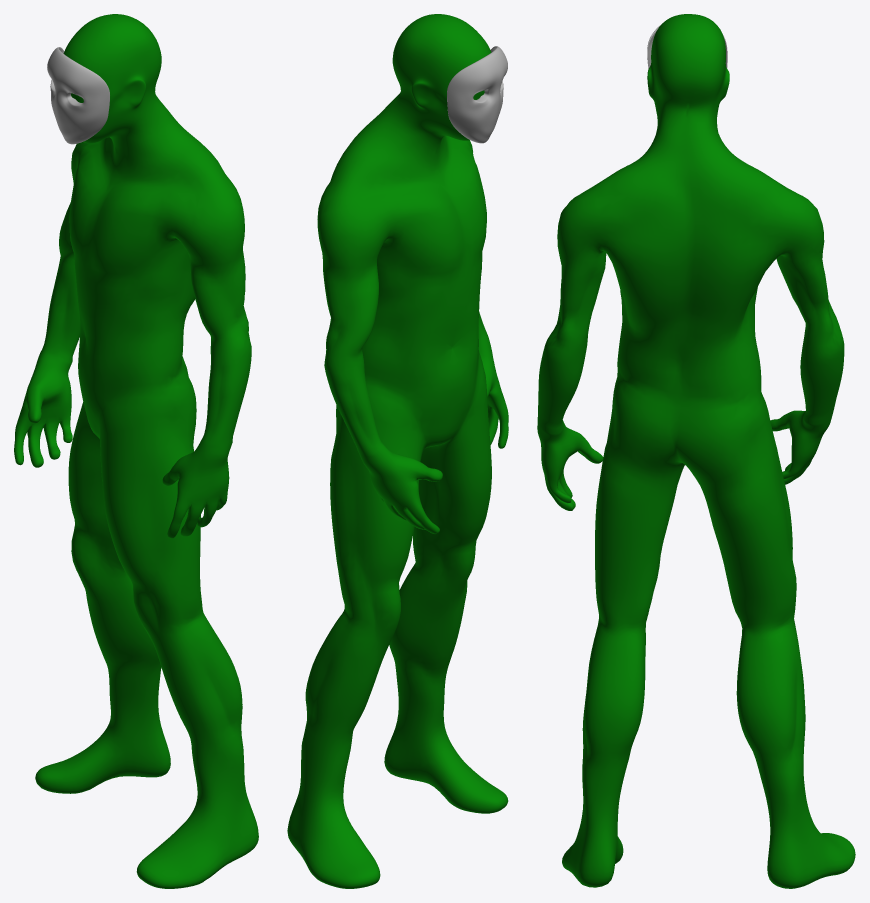
The model's file is dudeMask.glb.
The picture shows the model from 3 angles, left to right: view 1: azimuth 30°, elevation 25°; view 2: azimuth 150°, elevation 25°; view 3: azimuth 270°, elevation 25°; orthographic projection.
Visible parts, largest first — view 1: lowman_shoes.007, body; view 2: lowman_shoes.007, body; view 3: lowman_shoes.007.
Part boxes in pixels (x1,y1,x2,y2): lowman_shoes.007: (14, 14, 258, 888); body: (47, 47, 109, 144); lowman_shoes.007: (287, 14, 508, 888); body: (447, 46, 507, 143); lowman_shoes.007: (537, 14, 855, 888).
Bounding box in the file's own units: 1.24 × 6.02 × 2.07.
